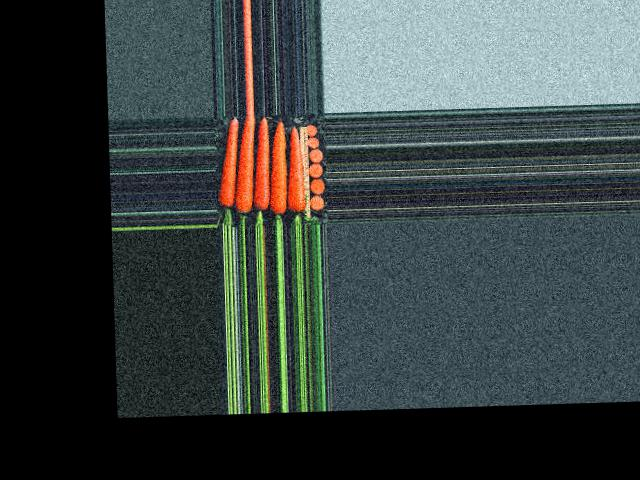carrot: (286, 122, 310, 219)
